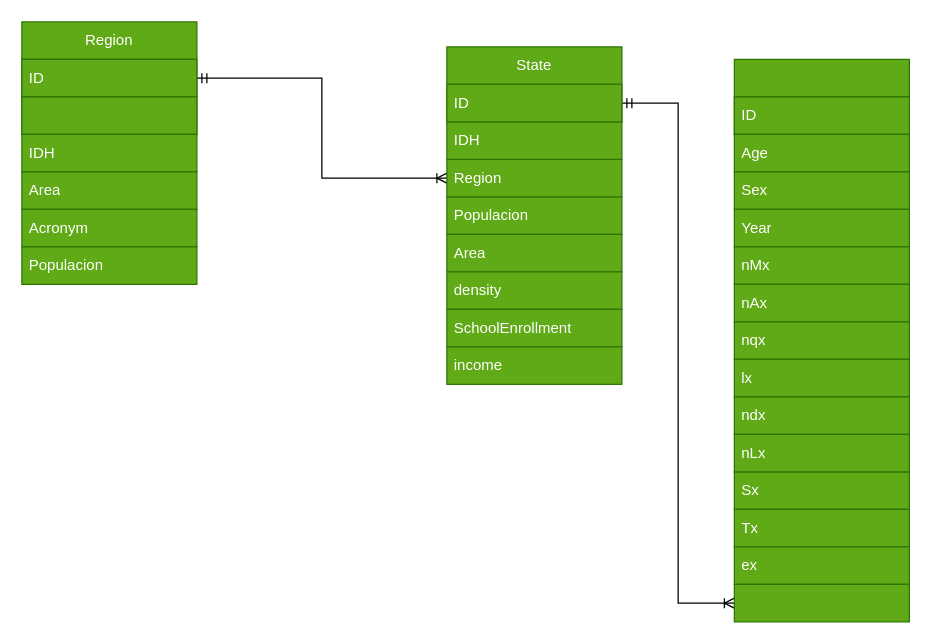
This 931x644 diagram has some shape labels left out. Each missing label, with the box of its shape:
Name: (21, 96, 197, 134)
Prevision: (733, 58, 909, 134)
S tate: (733, 583, 909, 622)
